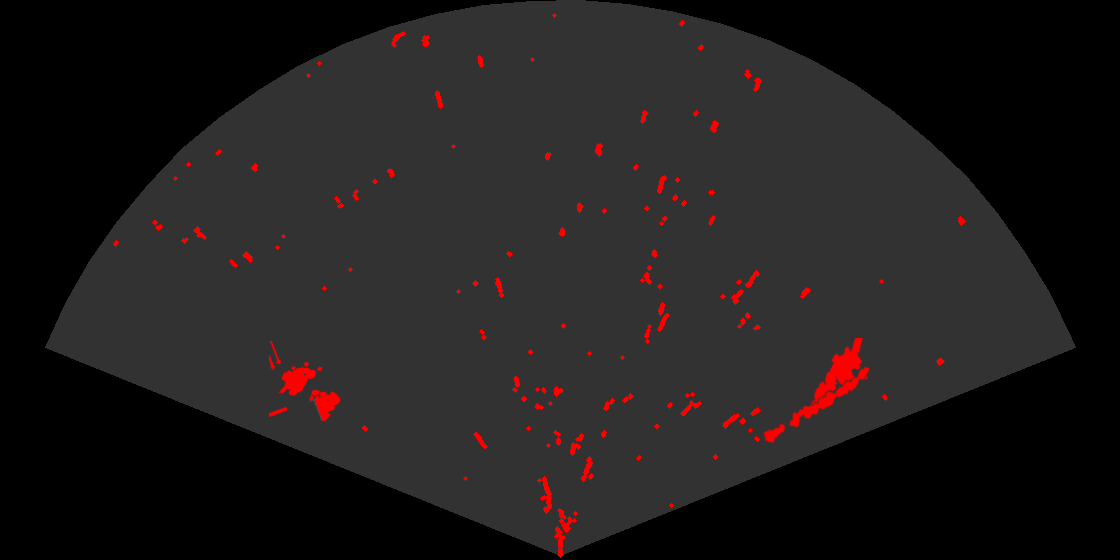cage: (269, 341, 342, 423)
chain: (762, 365, 871, 445)
frogman: (809, 338, 865, 410)
